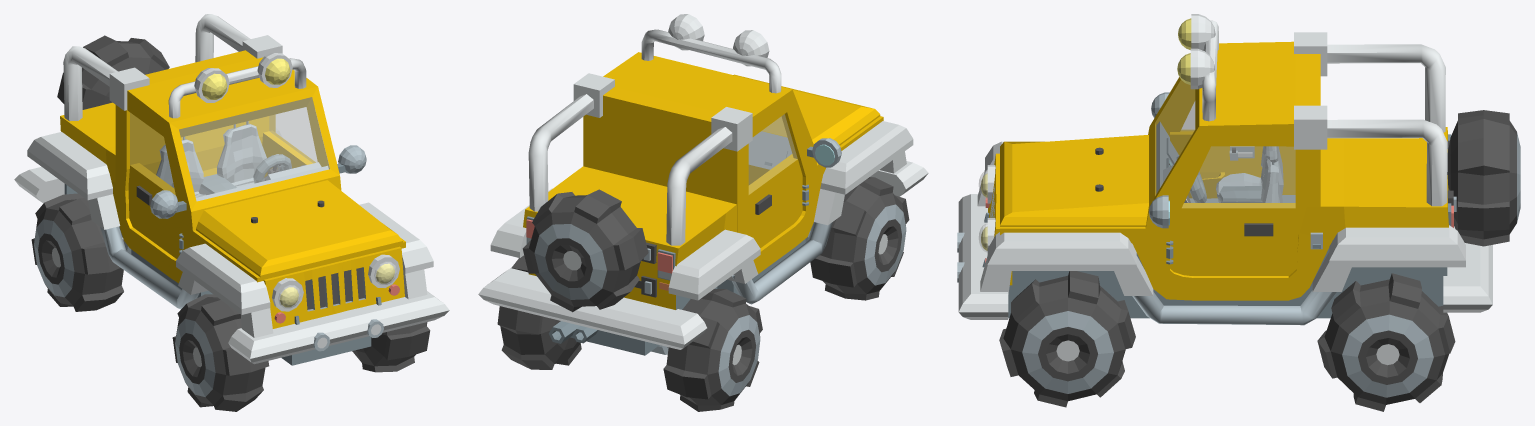
The model's file is car1502.gltf.
The picture shows the model from 3 angles, left to right: view 1: azimuth 30°, elevation 25°; view 2: azimuth 150°, elevation 25°; view 3: azimuth 270°, elevation 25°; orthographic projection. The views are drawn at different scales.
Visible parts, largest first — view 1: mesh1085046267, mesh1085046267.001, mesh1085046267.002; view 2: mesh1085046267, mesh1085046267.002, mesh1085046267.001; view 3: mesh1085046267, mesh1085046267.002, mesh1085046267.001.
Part boxes in pixels (x1,y1,x2,y2): mesh1085046267: [14, 14, 449, 365]; mesh1085046267.001: [172, 294, 430, 411]; mesh1085046267.002: [31, 193, 124, 311]; mesh1085046267: [478, 14, 928, 355]; mesh1085046267.002: [497, 255, 762, 411]; mesh1085046267.001: [810, 177, 909, 300]; mesh1085046267: [957, 14, 1520, 325]; mesh1085046267.002: [1317, 273, 1455, 411]; mesh1085046267.001: [999, 271, 1135, 407].
Size of the model in its own units: 0.6868 by 0.8716 by 1.36.
